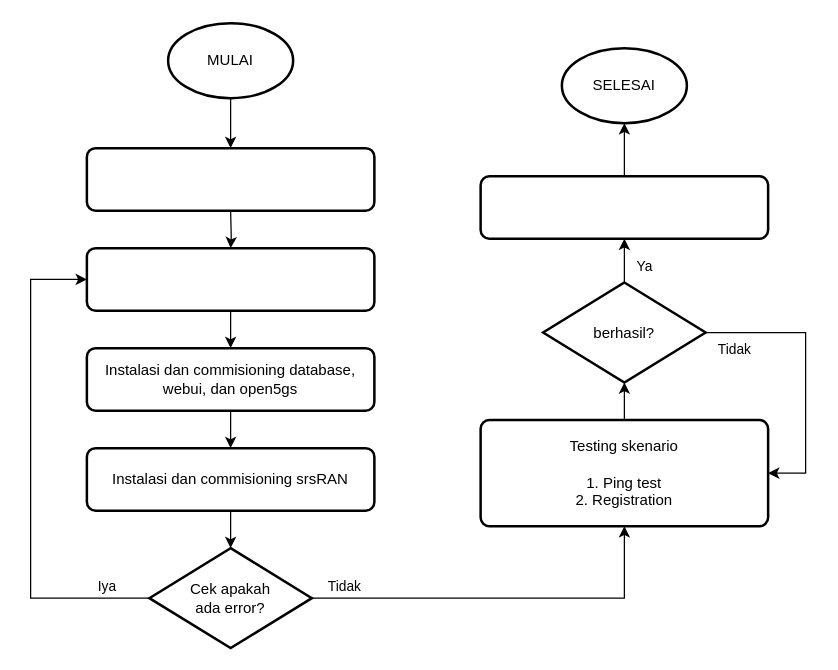
The diagram is 838 pixels wide and 670 high, and some of its shapes have lost their labels. Each missing label, with the centre of its shape:
Instalasi dan commisioning SDR: pixel 230 278
Instalasi Ubuntu: pixel 230 178
Pencatatan hasil dan analisis: pixel 624 206
